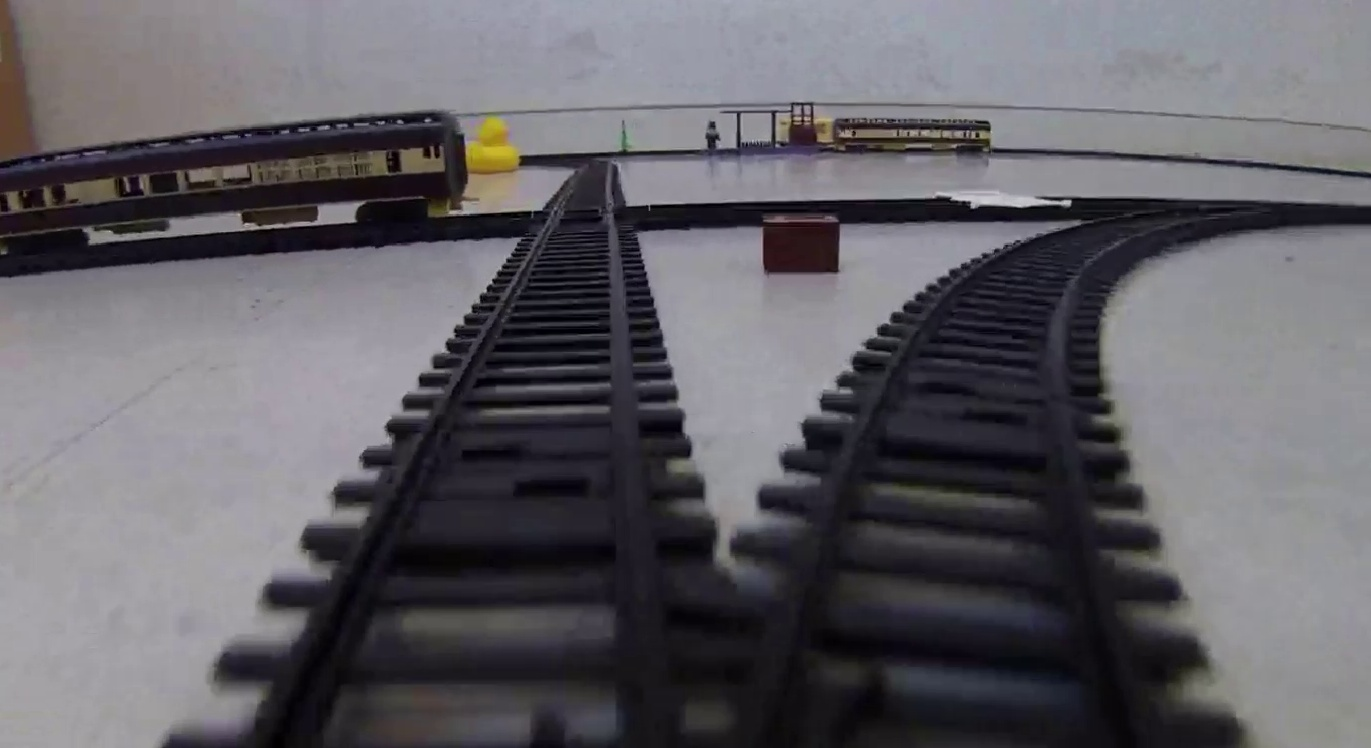box: (760, 216, 839, 275)
web: (937, 185, 1072, 210)
